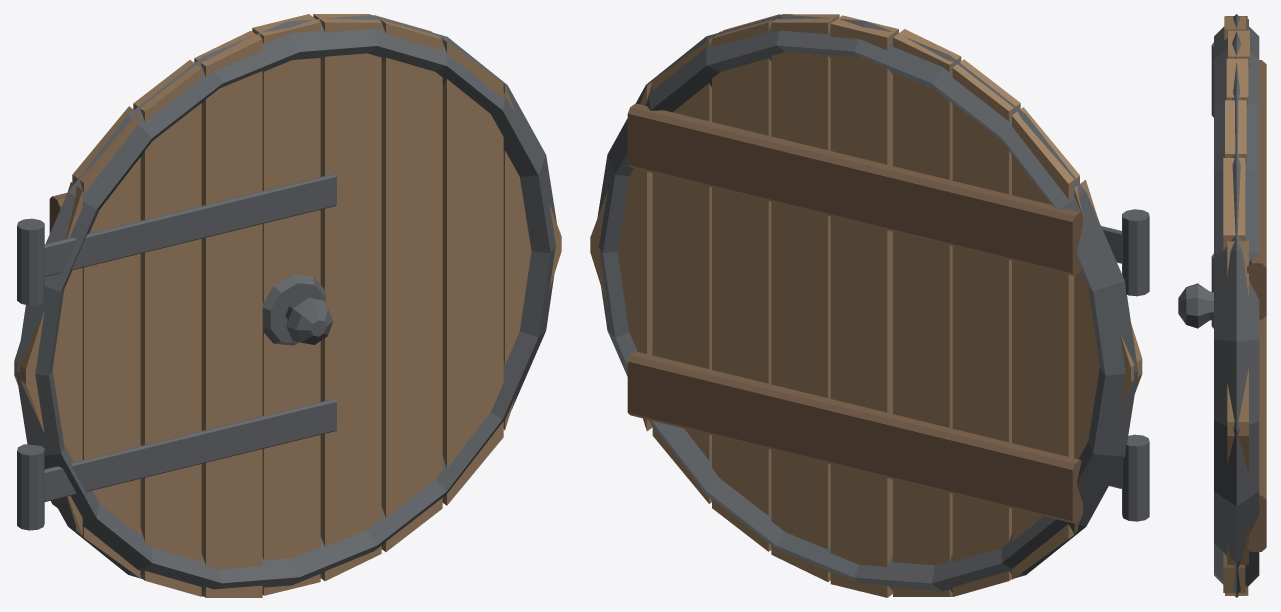
Rendered from door_round.glb.
The picture shows the model from 3 angles, left to right: view 1: azimuth 30°, elevation 25°; view 2: azimuth 150°, elevation 25°; view 3: azimuth 270°, elevation 25°; orthographic projection. The views are drawn at different scales.
Parts seen in each view (by area): view 1: door_round; view 2: door_round; view 3: door_round.
Part boxes in pixels (left/top/right/bottom): door_round: left=14, top=14, right=561, bottom=597; door_round: left=590, top=14, right=1149, bottom=597; door_round: left=1178, top=14, right=1266, bottom=597.
Bounding box in the file's own units: 1.52 × 1.52 × 0.227.
